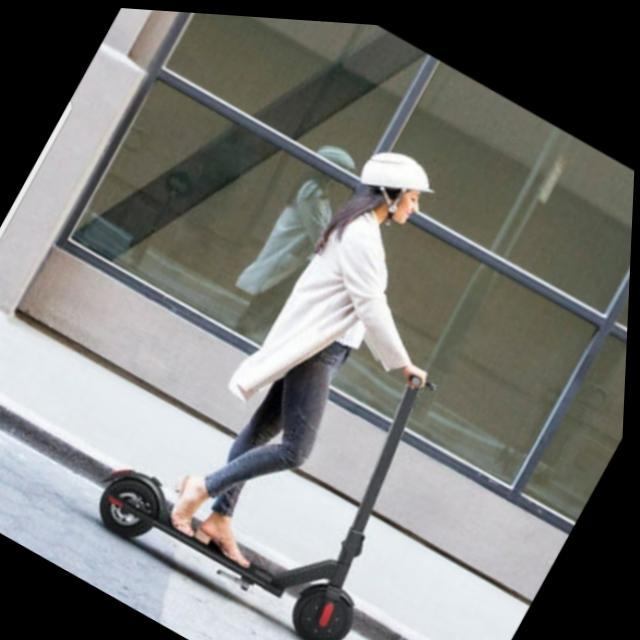Helmet: (350, 146, 435, 233)
